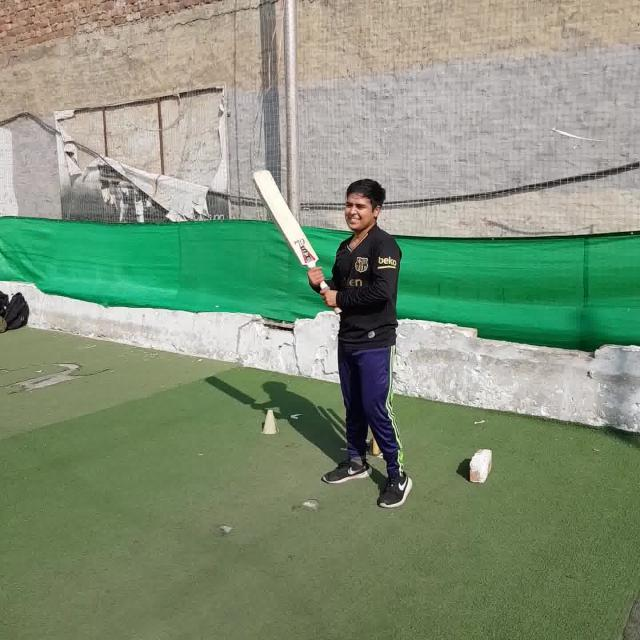bat: (253, 168, 340, 314)
